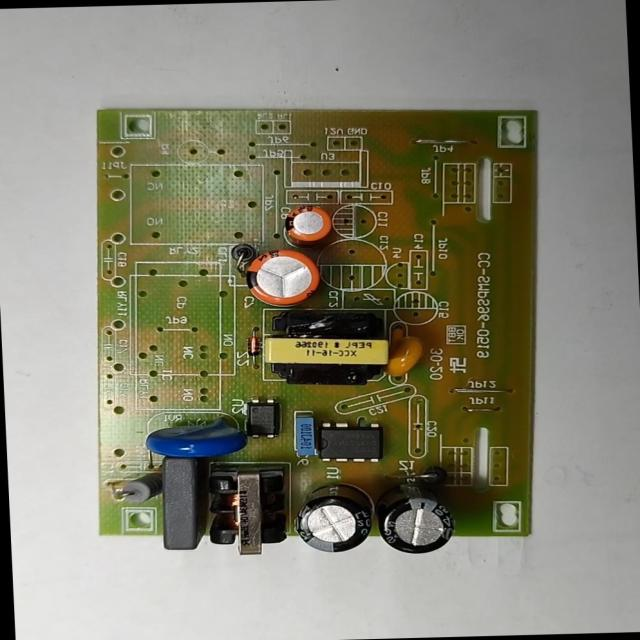Cap1: (245, 244, 321, 309)
Cap2: (282, 204, 334, 242)
Cap3: (293, 483, 373, 554)
Cap4: (378, 478, 455, 555)
MOSFET: (314, 419, 383, 465)
Mov: (143, 416, 248, 461)
Resistor: (117, 468, 162, 504)
Transformer: (261, 311, 393, 390), (202, 464, 287, 559)
